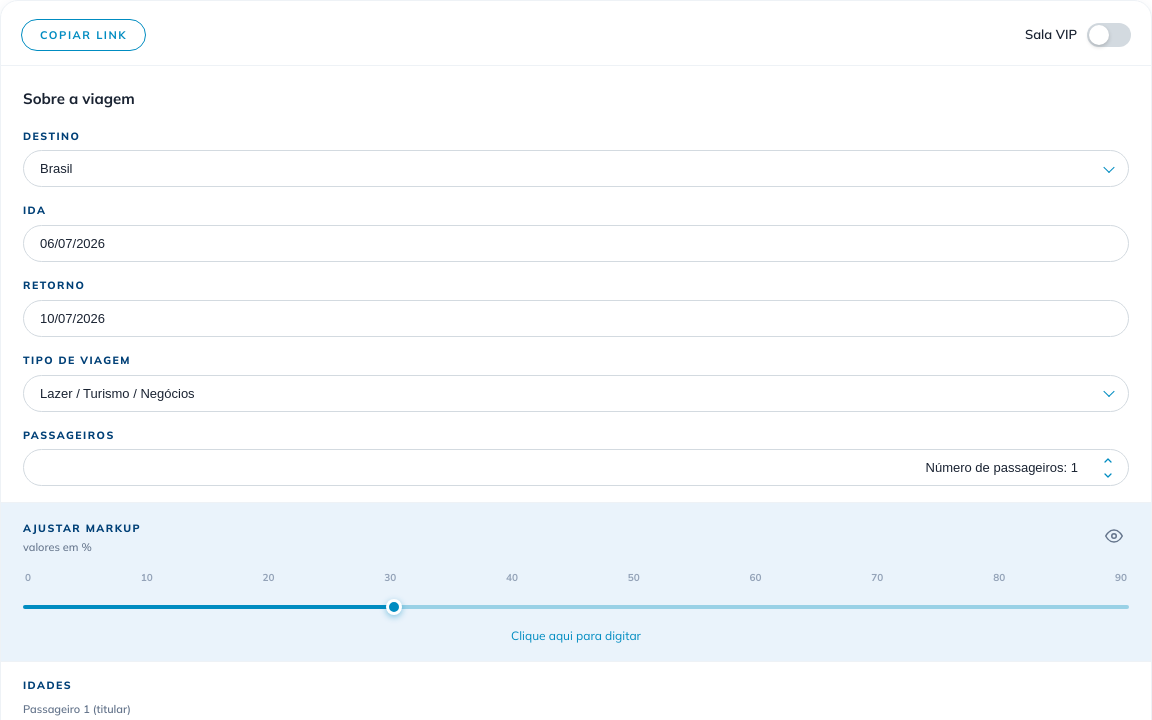
Test: CotacaoSidebar › adiciona passageiro ao clicar em Mais
The width and height of the screenshot is (1152, 720).
Expected: the text "Passageiro 1 (titular)" is shown, left=23, top=702, right=131, bottom=716
Click the button named "Mais" at [1108, 460], box left=1099, top=453, right=1117, bottom=467
(page scrolled)
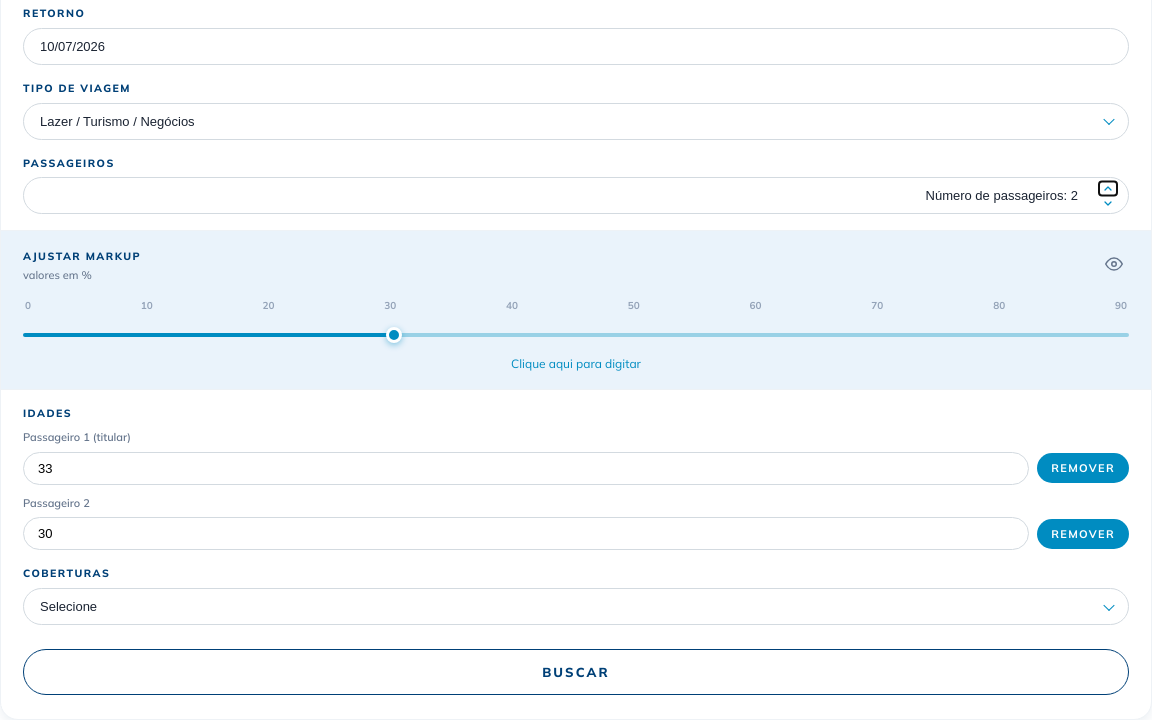
Expected: the text "Passageiro 2" is shown, left=23, top=496, right=90, bottom=510
